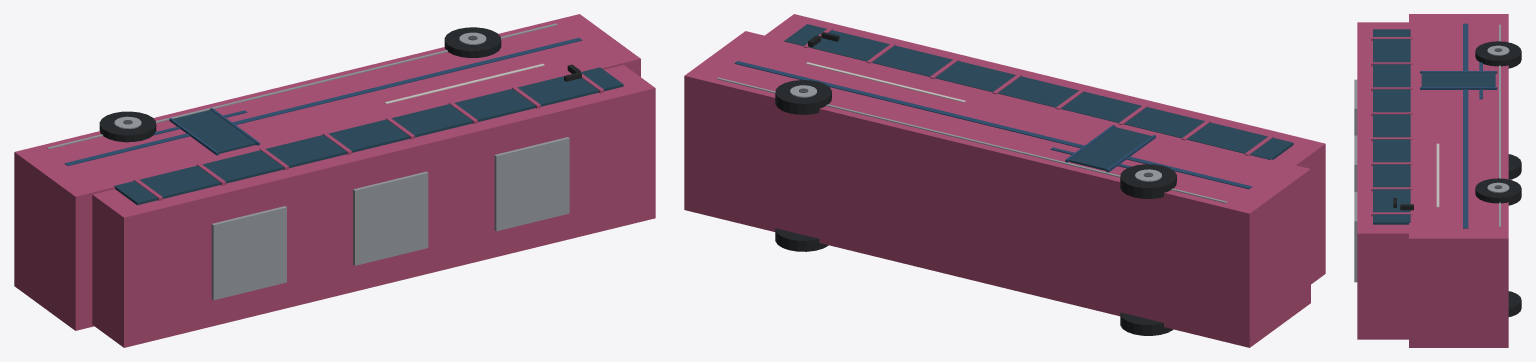
File: RM_Bus_31.glb
3 views of the same model, side by side, from view 1: azimuth 30°, elevation 25°; view 2: azimuth 150°, elevation 25°; view 3: azimuth 270°, elevation 25° (orthographic). The views are drawn at different scales.
Parts seen in each view (by area): view 1: part_001, part_000, part_002, part_039, part_037, part_038, part_013, part_040, part_030, part_024, part_014; view 2: part_000, part_002, part_001, part_013, part_040, part_030, part_024, part_014, part_027, part_021; view 3: part_000, part_001, part_002, part_013, part_040, part_030, part_024, part_039, part_014, part_021, part_027, part_043 (+6 smaller).
Boxes of the visible parts, box(x1,y1,x2,y2) form: part_001: box(92, 65, 655, 347); part_000: box(14, 14, 640, 330); part_002: box(114, 67, 623, 205); part_039: box(494, 137, 569, 231); part_037: box(211, 206, 286, 300); part_038: box(353, 171, 428, 265); part_013: box(64, 37, 582, 165); part_040: box(173, 110, 255, 153); part_030: box(444, 27, 501, 57); part_024: box(99, 111, 156, 142); part_014: box(47, 23, 557, 149); part_000: box(684, 31, 1310, 347); part_002: box(784, 24, 1293, 159); part_001: box(765, 14, 1325, 284); part_013: box(734, 61, 1252, 189); part_040: box(1069, 127, 1151, 170); part_030: box(775, 80, 831, 114); part_024: box(1120, 164, 1176, 198); part_014: box(717, 77, 1227, 203); part_027: box(775, 228, 828, 251); part_021: box(1120, 312, 1173, 335); part_000: box(1409, 14, 1508, 347); part_001: box(1357, 22, 1408, 339); part_002: box(1373, 29, 1410, 224); part_013: box(1463, 23, 1468, 228); part_040: box(1421, 72, 1495, 86); part_030: box(1475, 178, 1521, 205); part_024: box(1475, 41, 1521, 68); part_039: box(1354, 192, 1357, 282); part_014: box(1499, 24, 1500, 227); part_021: box(1508, 154, 1521, 179); part_027: box(1508, 291, 1521, 316); part_043: box(1436, 143, 1439, 207).
Bounding box in the file's own units: 10.8 × 2.77 × 3.4.
